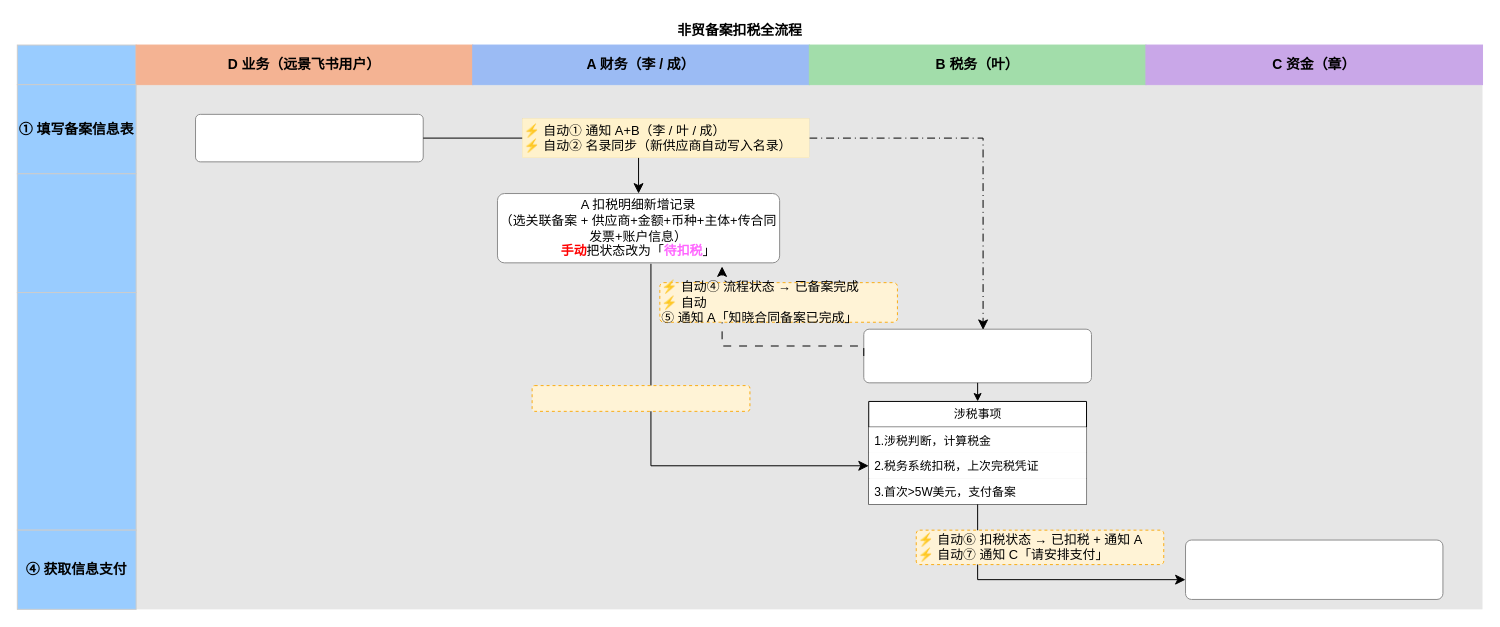
This 1500x627 diagram has some shape labels left out. The shapes that lost their labels are listed below. From the top down, each one's box as (x1, y1, x2, y2) in pixels, then its label:
(16, 44, 136, 85): 步骤
(195, 113, 423, 162): D 提交备案收集表单 （供应商 + 合同 + 金额 + 服务内容）
(16, 173, 136, 293): ② 增加扣税明细
(863, 328, 1091, 383): B 完成备案，上传 「合同备案表」附件
(16, 292, 136, 530): ③ 合同备案 支付备案 涉税判断 扣税
(531, 385, 750, 411): ⚡ 自动 ③ 通知 B「扣税待办理」
(1185, 539, 1443, 599): C 下载发票 / 中英文合同核对 完成支付 → 流程结束
